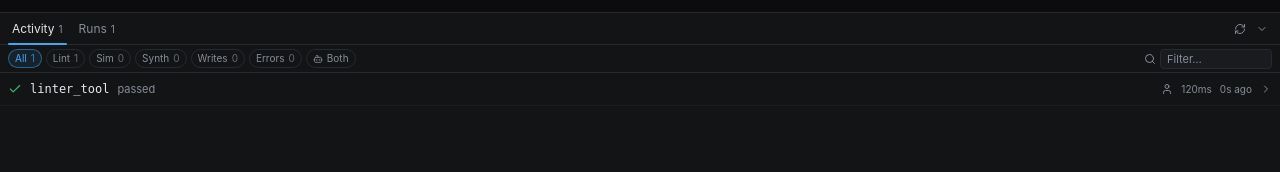
Test case: BottomDock › shows Activity/Runs tabs with counts and lists runs on the Runs tab
Expected: the button "Activity 1" is shown, [4,12,71,44]
# Switch to the Runs tab — the sim run row shows up with its failure time.
Click the button "Runs 1" at (97, 28), box [71,12,123,44]
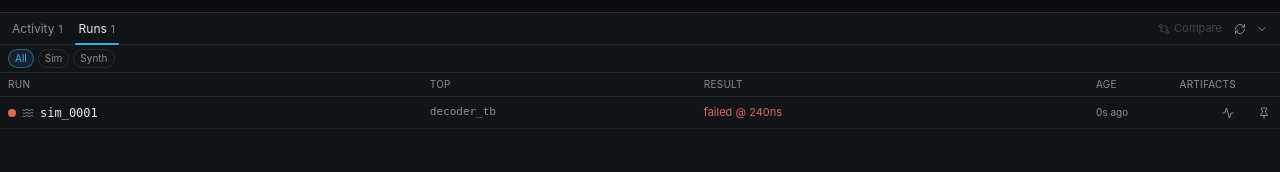
Expected: the text "sim_0001" is shown, [40,104,98,120]
Expected: the text "failed @ 240ns" is shown, [704,104,782,121]
